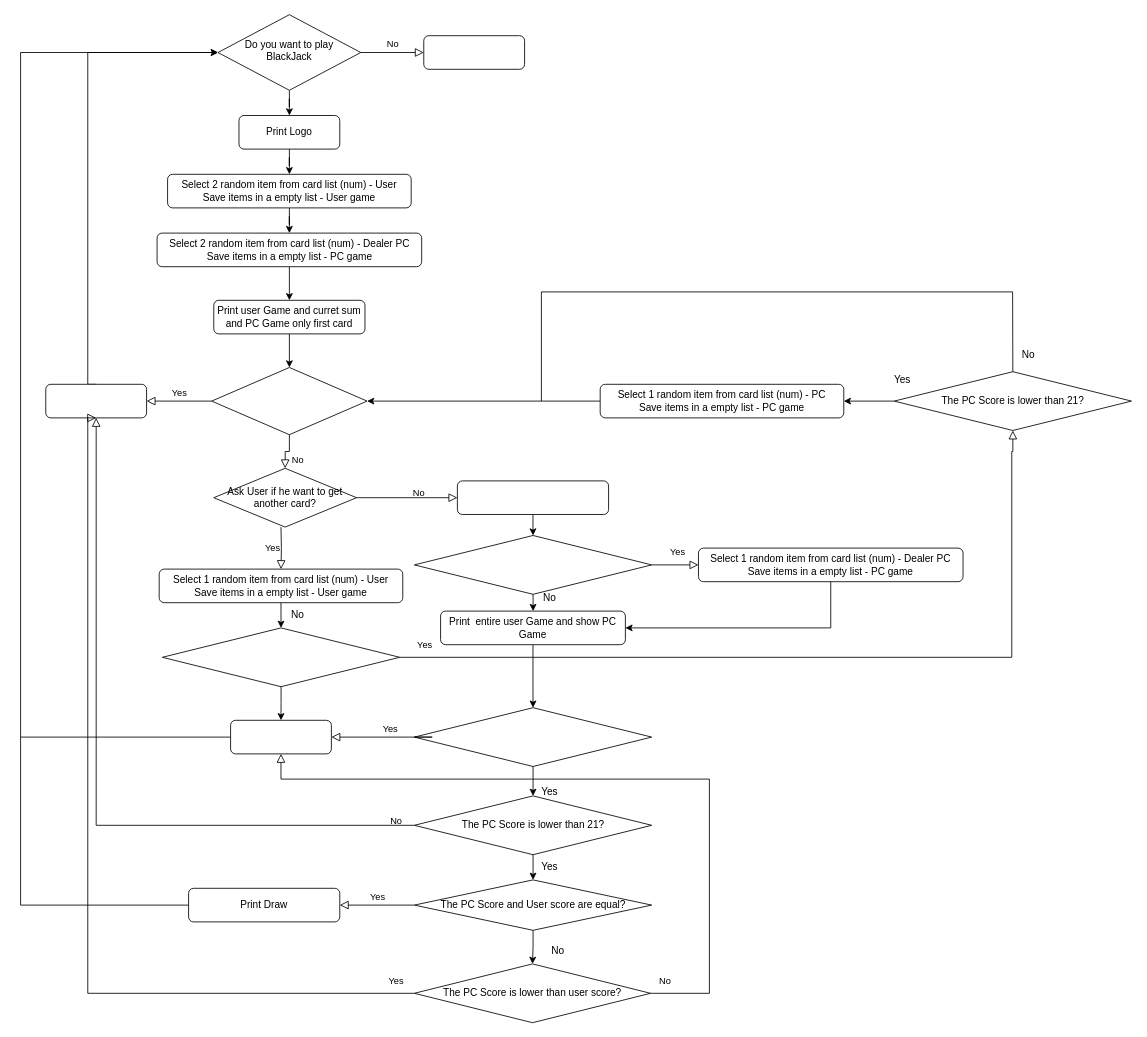
Some shapes in this 1147 by 1037 pixel diagram are drawn without their labels. Here are the shapes that lost their labels. From the top down, the box of each, then its label:
(423, 35, 525, 69): Exit Program
(45, 383, 147, 418): Print You win - Game Over
(211, 367, 367, 435): Its a user BlackJack? (11 + 10)
(457, 480, 609, 514): Reveal Game
(414, 535, 652, 594): The PC Score is lower than 17?
(162, 627, 400, 687): The user score is equal or lower than 21?
(230, 719, 331, 754): Print You Lose PC Win
(414, 707, 652, 766): The PC Score is equal to 21?
